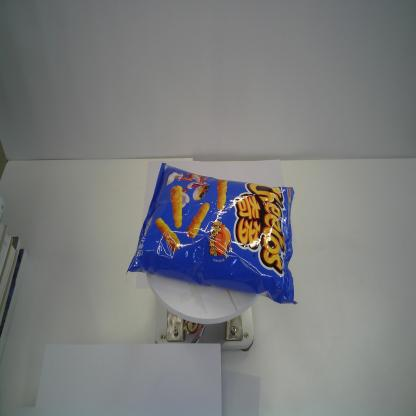Puffed Food: (125, 161, 298, 309)
